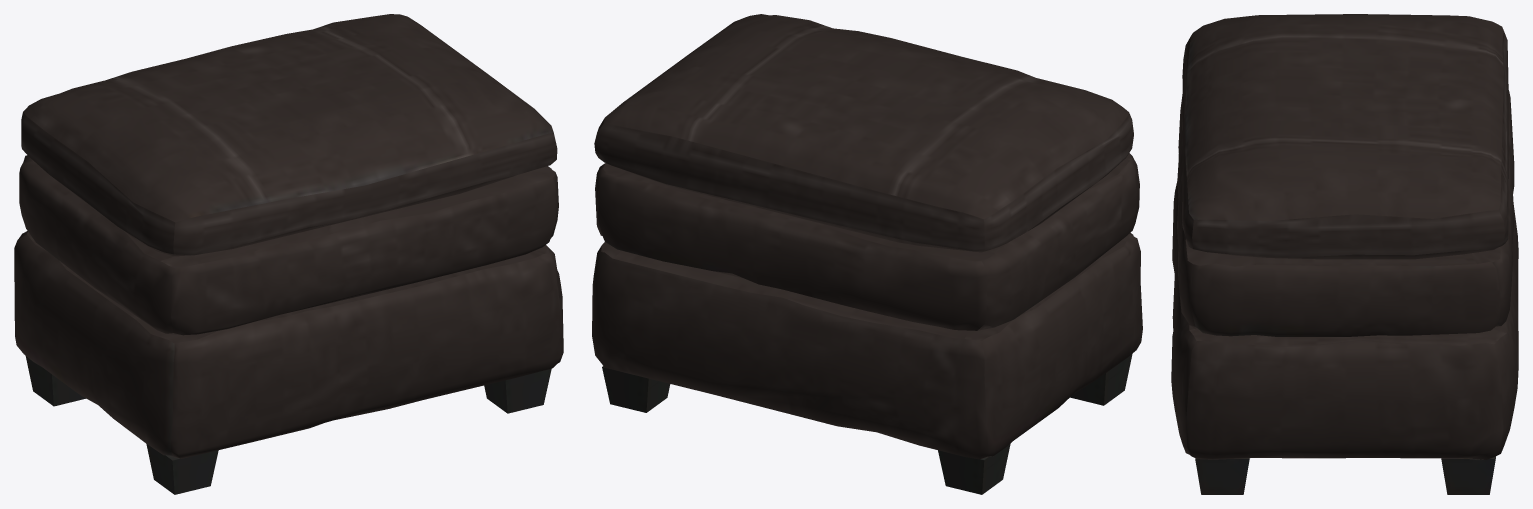
Rendered from th_pouf.glb.
3 renders of one model, left to right at view 1: azimuth 30°, elevation 25°; view 2: azimuth 150°, elevation 25°; view 3: azimuth 270°, elevation 25°, orthographic.
Parts seen in each view (by area): view 1: Ottoman_01; view 2: Ottoman_01; view 3: Ottoman_01.
Boxes of the visible parts, <box> form: Ottoman_01: <box>14,14,563,494</box>; Ottoman_01: <box>592,14,1142,494</box>; Ottoman_01: <box>1171,14,1518,494</box>.
Bounding box in the file's own units: 0.8842 × 0.6243 × 0.6211.
1 material, 1 textured.
